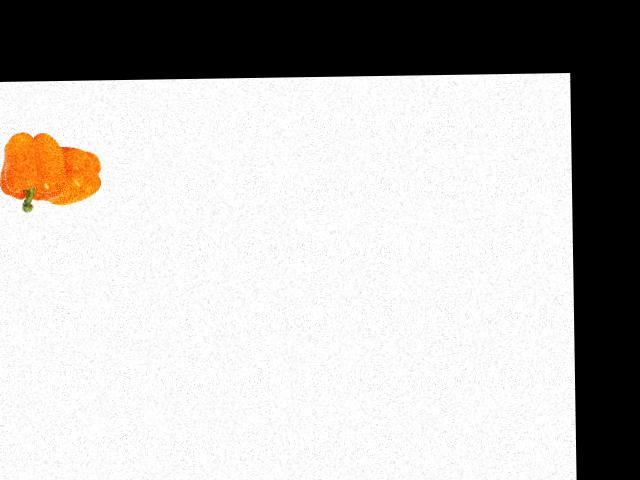bell_pepper: (42, 138, 106, 207)
